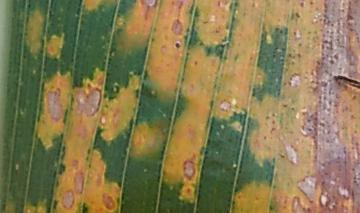tarspot: (171, 39, 183, 50)
